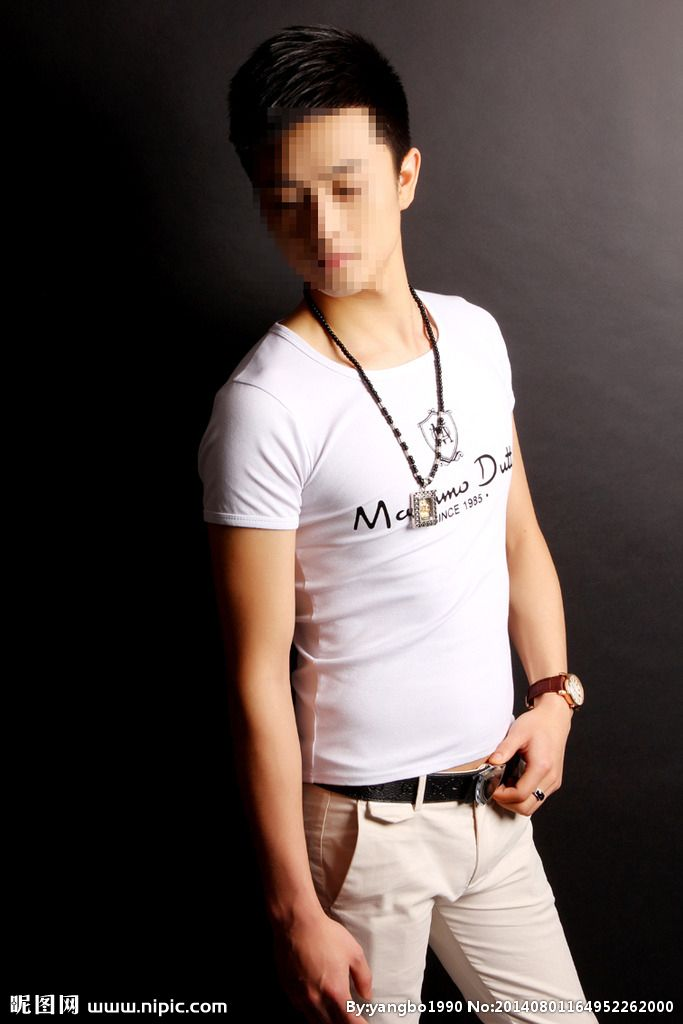person: (138, 41, 533, 925)
